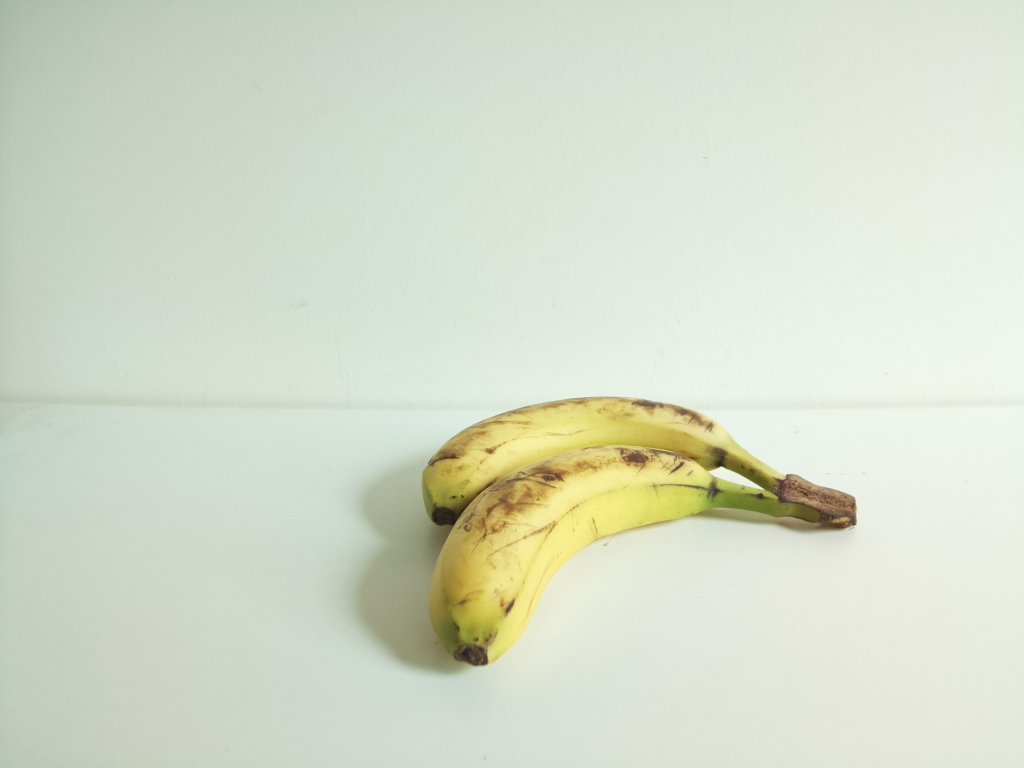banana: (431, 442, 856, 668), (422, 396, 854, 528)
